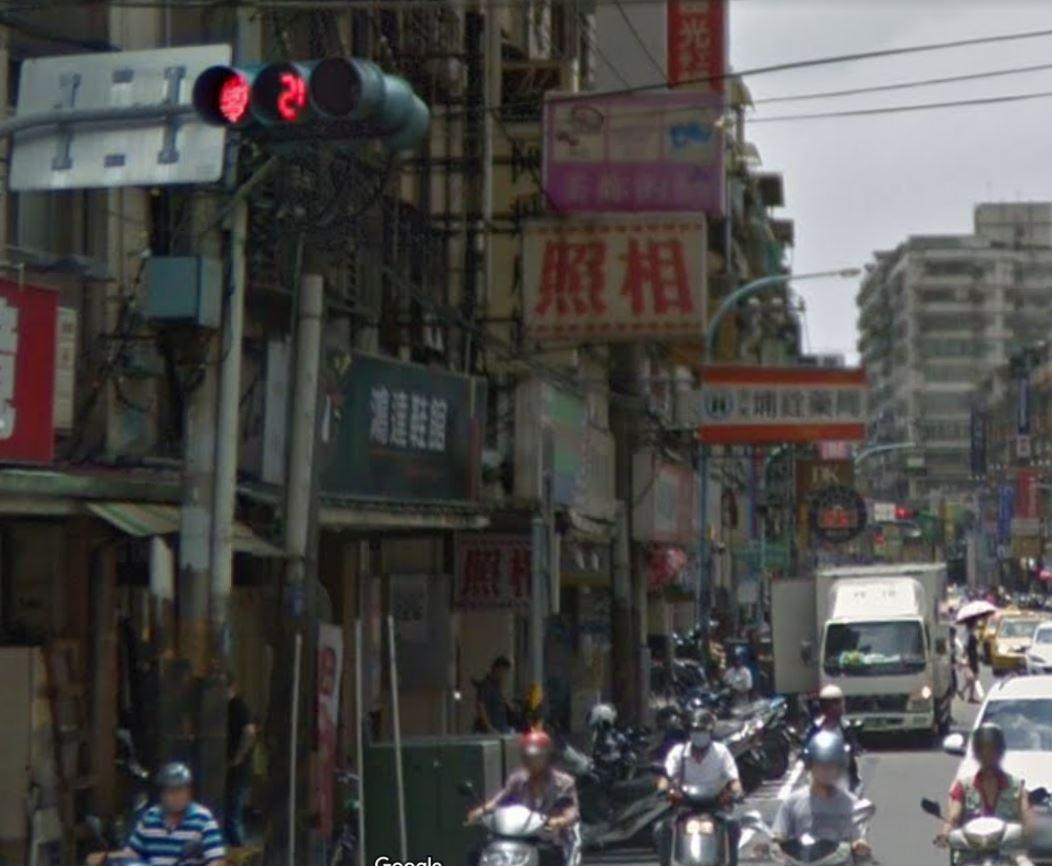red_traffic_light: (185, 59, 385, 129)
